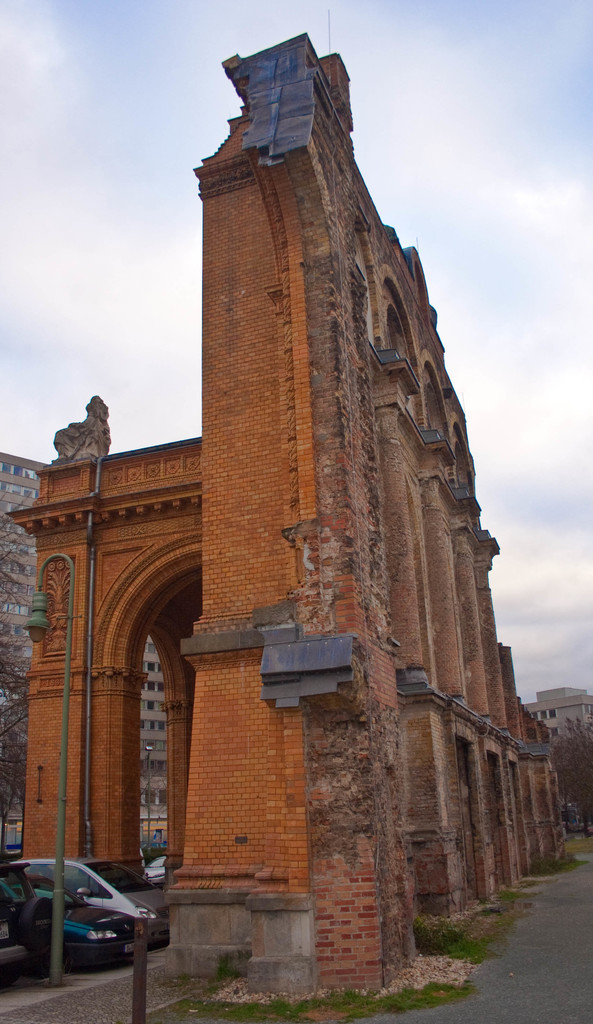Car: (43, 277, 171, 947), (23, 874, 133, 975), (0, 862, 51, 970), (0, 882, 28, 987), (145, 856, 165, 889), (585, 826, 592, 840)
